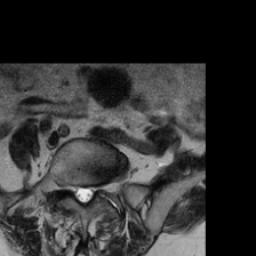CCS_stenosis: (80, 179, 87, 210)
LFS_severe_stenosis: (95, 175, 103, 199)
LLS_normal: (87, 178, 95, 206)
RFS_stenosis: (63, 175, 72, 198)
RLS_normal: (72, 178, 80, 204)
